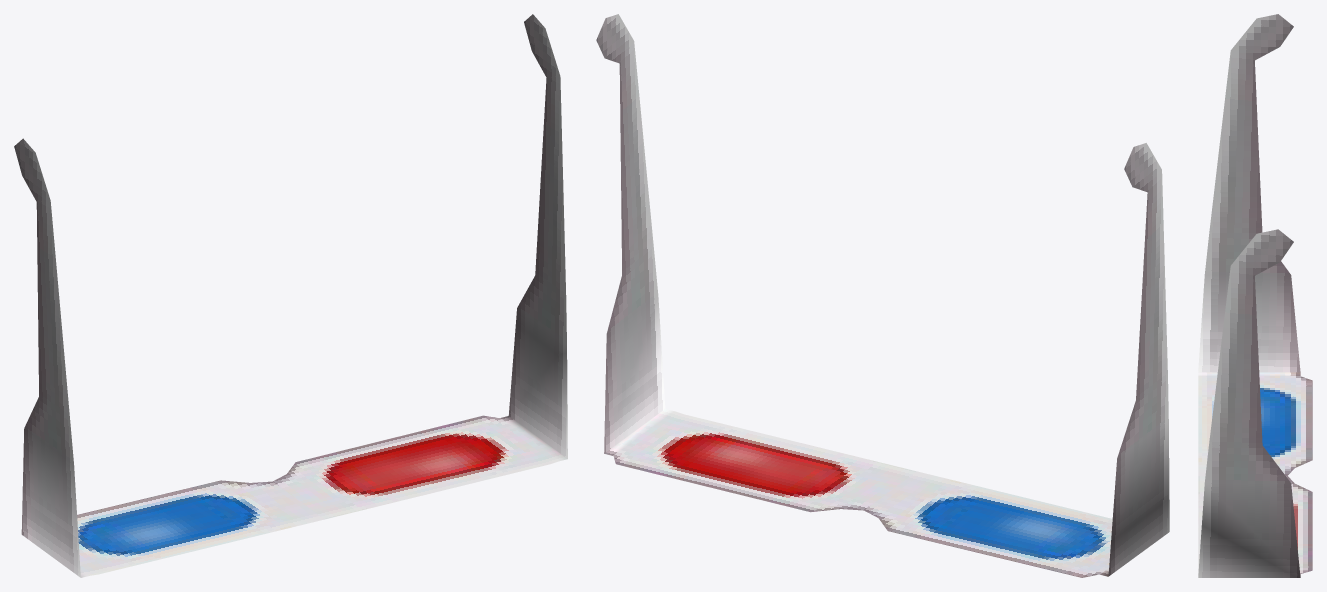
Rendered from tt_m_chr_avt_acc_msk_3dGlasses.glb.
3 views of the same model, side by side, from view 1: azimuth 30°, elevation 25°; view 2: azimuth 150°, elevation 25°; view 3: azimuth 270°, elevation 25° (orthographic). The views are drawn at different scales.
Parts seen in each view (by area): view 1: dGlasses; view 2: dGlasses; view 3: dGlasses.
Part boxes in pixels (x1,y1,x2,y2): dGlasses: [14, 14, 567, 577]; dGlasses: [596, 14, 1169, 577]; dGlasses: [1198, 14, 1312, 577].
Size of the model in its own units: 3.37 by 2.59 by 0.7583.
1 material, 1 textured.
